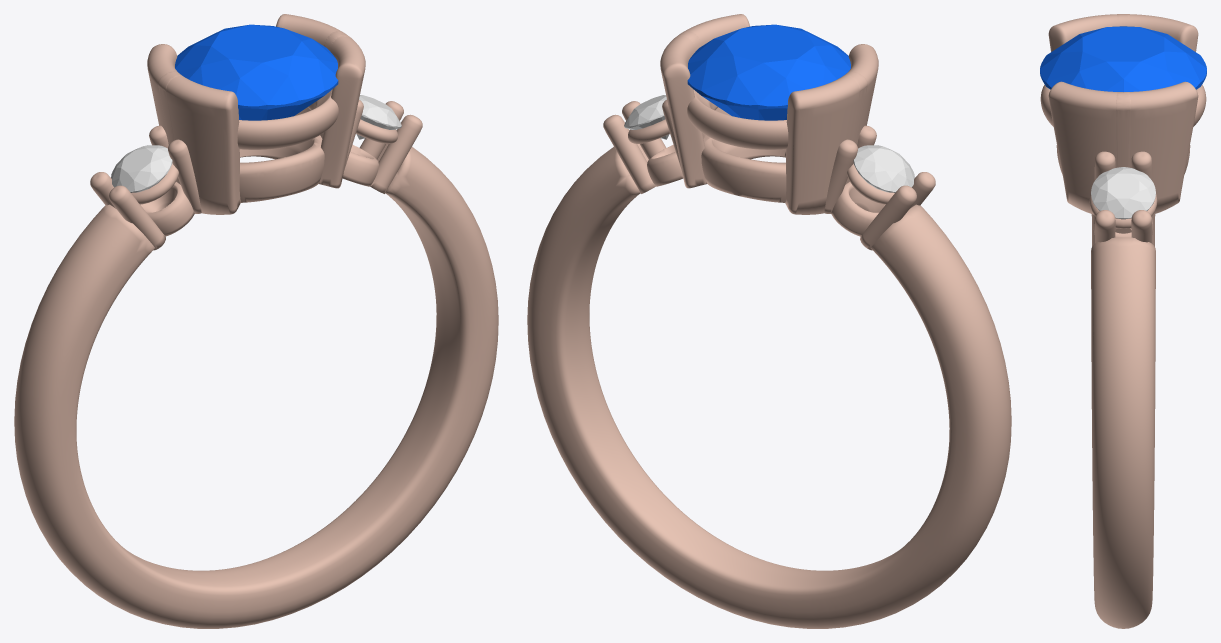
File: bluesapphire-round-rosegold-halfmoonbezel-straightband-2stone.glb
3 views of the same model, side by side, from view 1: azimuth 30°, elevation 25°; view 2: azimuth 150°, elevation 25°; view 3: azimuth 270°, elevation 25° (orthographic). The views are drawn at different scales.
Visible parts, largest first — view 1: metal, stone, side.001, side; view 2: metal, stone, side.001, side; view 3: metal, stone, side.
Part boxes in pixels (x1,y1,x2,y2): metal: (14, 14, 498, 628); stone: (175, 24, 338, 120); side.001: (111, 145, 172, 192); side: (356, 95, 401, 139); metal: (527, 14, 1011, 628); stone: (687, 24, 850, 120); side.001: (853, 145, 914, 192); side: (624, 95, 669, 139); metal: (1040, 14, 1206, 628); stone: (1040, 26, 1206, 91); side: (1091, 167, 1155, 219).
Bounding box in the file's own units: 20.5 × 23.8 × 6.44.
